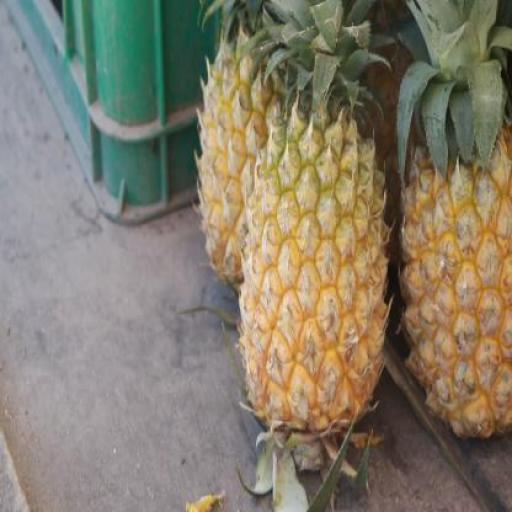Pineapple - v8 v1: (246, 114, 392, 432), (400, 127, 512, 444), (198, 41, 294, 291)
